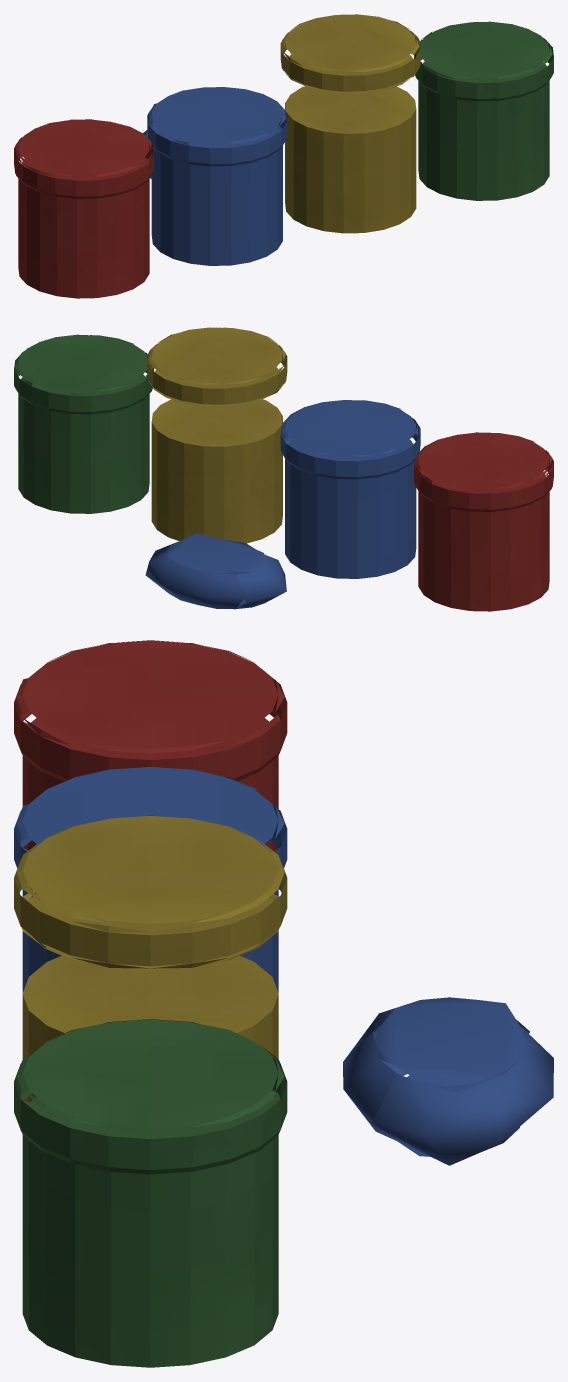
Rendered from TY44_ModellingClayTubs.glb.
3 views of the same model, one above another, from view 1: azimuth 30°, elevation 25°; view 2: azimuth 150°, elevation 25°; view 3: azimuth 270°, elevation 25° (orthographic). The views are drawn at different scales.
Parts seen in each view (by area): view 1: TY44_ModellingClayTubs; view 2: TY44_ModellingClayTubs; view 3: TY44_ModellingClayTubs.
Part boxes in pixels (bbox=[...]): TY44_ModellingClayTubs: bbox=[14, 14, 553, 298]; TY44_ModellingClayTubs: bbox=[14, 327, 553, 611]; TY44_ModellingClayTubs: bbox=[14, 640, 553, 1367].
Size of the model in its own units: 0.2 by 0.0616 by 0.0923.
Materials: 4 (4 with a texture image).
